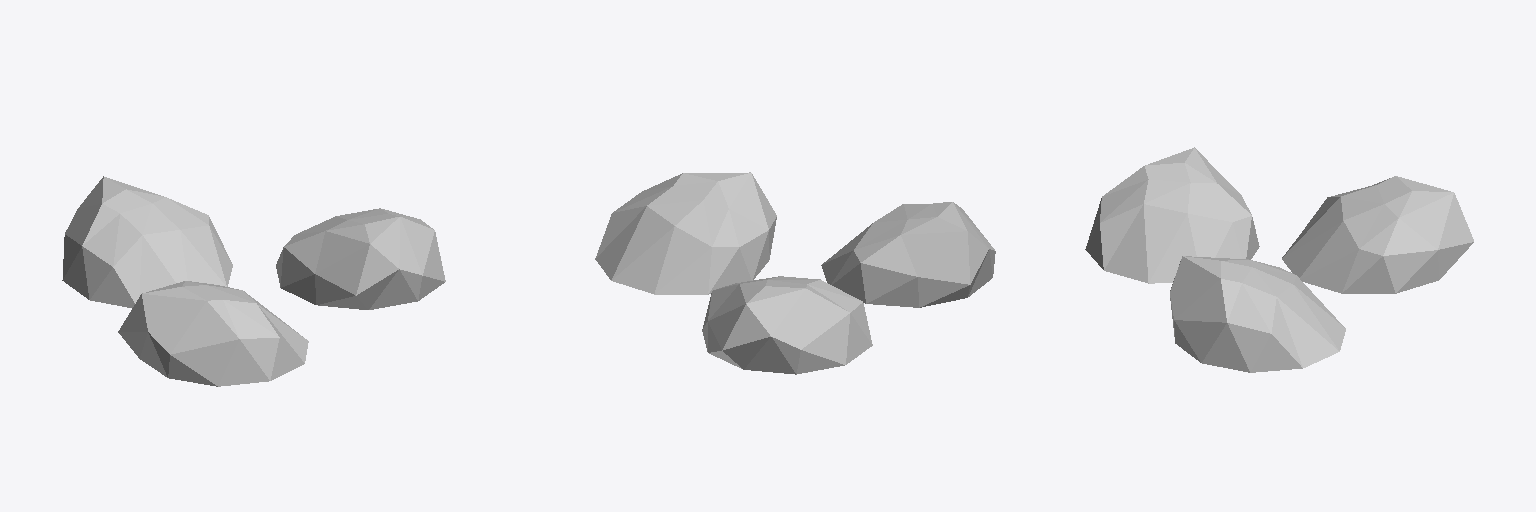
File: RockGroup1.obj
The picture shows the model from 3 angles: view 1: azimuth 30°, elevation 25°; view 2: azimuth 150°, elevation 25°; view 3: azimuth 270°, elevation 25°; orthographic projection.
Parts seen in each view (by area): view 1: Icosphere, Icosphere.003, Icosphere.001; view 2: Icosphere.001, Icosphere, Icosphere.003; view 3: Icosphere, Icosphere.001, Icosphere.003.
Part boxes in pixels (x1,y1,x2,y2): Icosphere: (62, 176, 232, 307); Icosphere.003: (118, 281, 308, 386); Icosphere.001: (276, 208, 445, 309); Icosphere.001: (595, 172, 776, 294); Icosphere: (702, 276, 872, 374); Icosphere.003: (821, 202, 995, 307); Icosphere: (1282, 176, 1473, 293); Icosphere.001: (1170, 256, 1345, 372); Icosphere.003: (1085, 147, 1259, 283).
Size of the model in its own units: 4.51 by 0.8575 by 4.46.